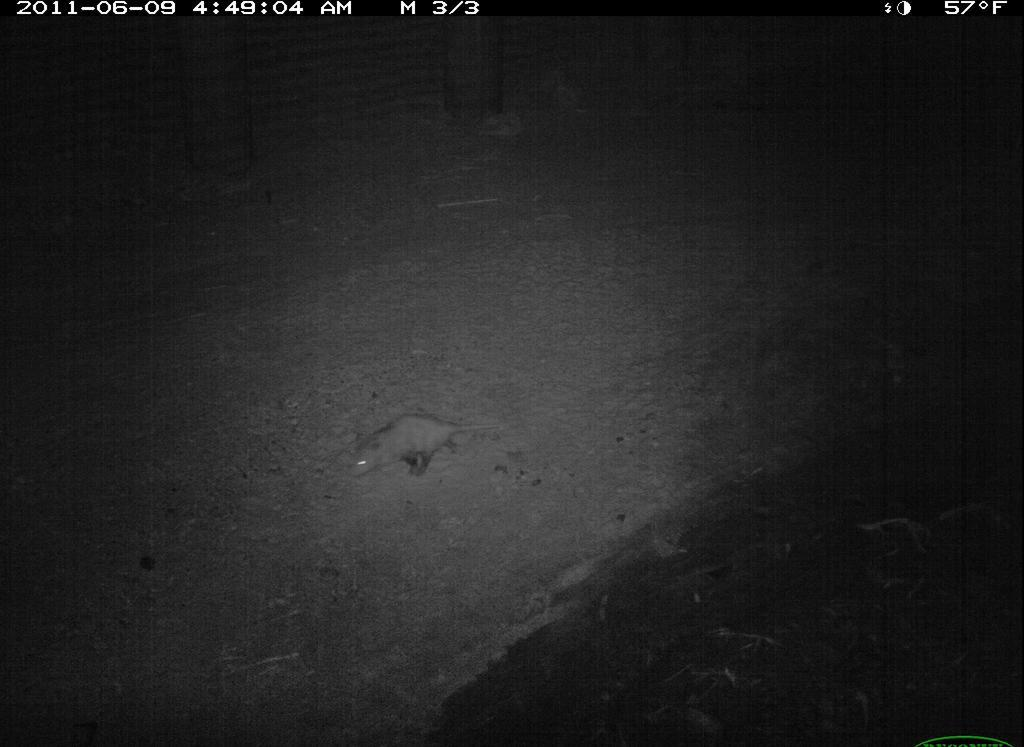opossum: (351, 406, 506, 486)
